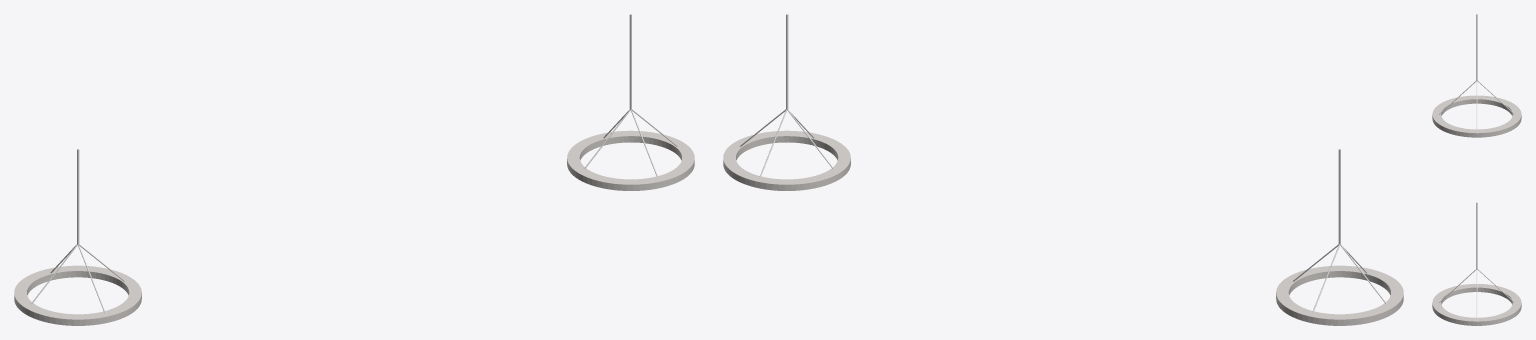
Rendered from RoundLamp.fbx.
3 views of the same model, side by side, from view 1: azimuth 30°, elevation 25°; view 2: azimuth 150°, elevation 25°; view 3: azimuth 270°, elevation 25° (orthographic). The views are drawn at different scales.
Parts seen in each view (by area): view 1: RoundLamp.001, RoundLamp; view 2: RoundLamp.001, RoundLamp; view 3: RoundLamp.001, RoundLamp, Cylinder.003, Cylinder.008, Cylinder.007, Cylinder.012.
Boxes of the visible parts, left/top/right/bottom form: RoundLamp.001: left=14, top=265, right=141, bottom=325; RoundLamp: left=567, top=130, right=694, bottom=190; RoundLamp.001: left=1276, top=265, right=1403, bottom=325; RoundLamp: left=723, top=130, right=850, bottom=190; RoundLamp.001: left=1432, top=95, right=1521, bottom=137; RoundLamp: left=1432, top=284, right=1521, bottom=325; Cylinder.003: left=1476, top=202, right=1477, bottom=269; Cylinder.008: left=1476, top=14, right=1477, bottom=80; Cylinder.007: left=1476, top=269, right=1477, bottom=318; Cylinder.012: left=1476, top=81, right=1477, bottom=129.
Size of the model in its own units: 1200 by 259 by 200.
